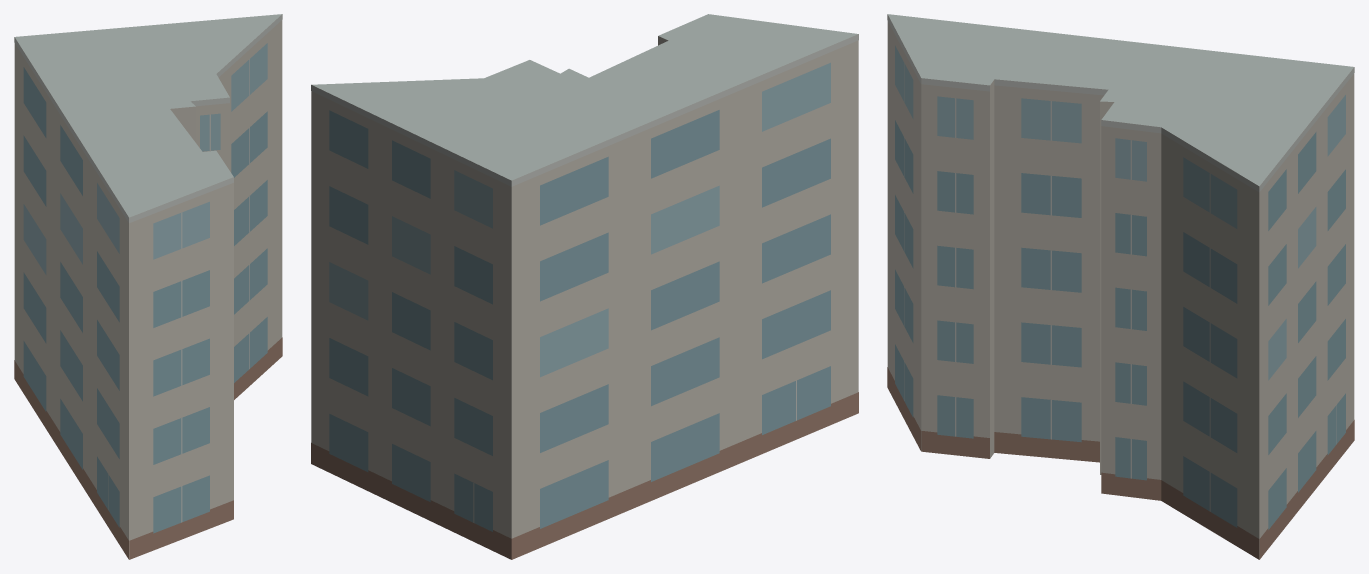
File: survey-upis-32497933.glb
The picture shows the model from 3 angles, left to right: view 1: azimuth 30°, elevation 25°; view 2: azimuth 150°, elevation 25°; view 3: azimuth 270°, elevation 25°; orthographic projection. The views are drawn at different scales.
Visible parts, largest first — view 1: survey-upis-32497933.tmp; view 2: survey-upis-32497933.tmp; view 3: survey-upis-32497933.tmp.
Part boxes in pixels (box(x1,y1,x2,y2)): survey-upis-32497933.tmp: box(14, 14, 282, 559); survey-upis-32497933.tmp: box(311, 14, 858, 559); survey-upis-32497933.tmp: box(887, 14, 1354, 559).
Size of the model in its own units: 14.76 by 14.9 by 16.89.
